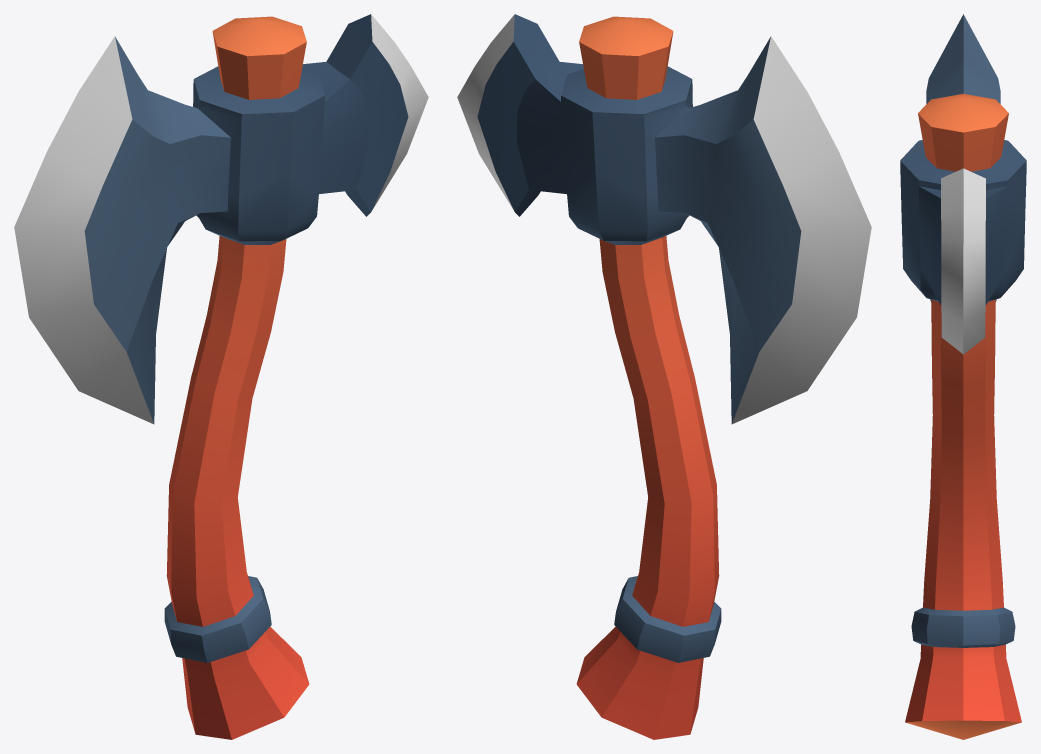
The model's file is StylizedAxe.fbx.
3 views of the same model, side by side, from view 1: azimuth 30°, elevation 25°; view 2: azimuth 150°, elevation 25°; view 3: azimuth 270°, elevation 25° (orthographic). The views are drawn at different scales.
Visible parts, largest first — view 1: Axe; view 2: Axe; view 3: Axe.
Part boxes in pixels (<box>): Axe: <box>14,14,428,739</box>; Axe: <box>457,14,871,739</box>; Axe: <box>900,14,1026,739</box>.
Size of the model in its own units: 37.49 by 62.08 by 10.64.
1 material, 1 textured.
